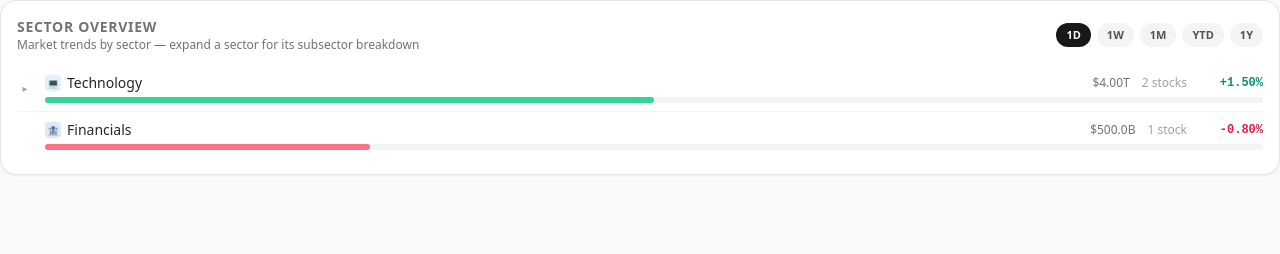
it: SectorOverviewWidget › expands a sector with a real subsector breakdown to show its industries
This screenshot has width=1280, height=254.
Expected: the text "Semiconductors" is not shown
Click the text "Technology" at (104, 83), box [67,73,142,93]
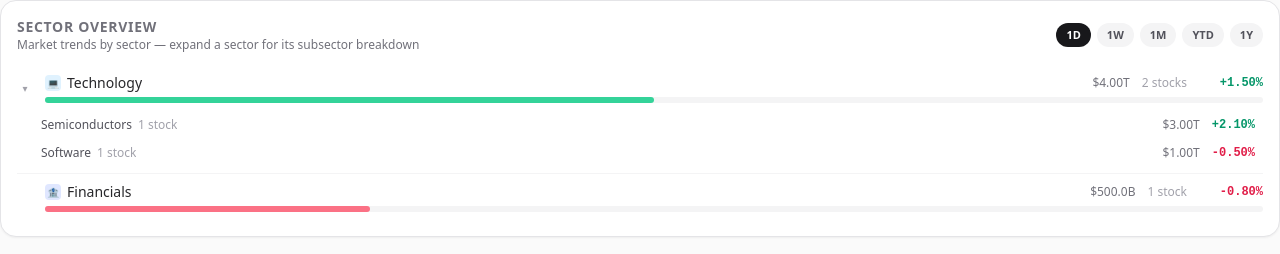
Expected: the text "Semiconductors" is shown, [41,116,132,133]
Expected: the text "Software" is shown, [41,144,91,161]
Expected: the text "+2.10%" is shown, [1212,117,1255,133]
